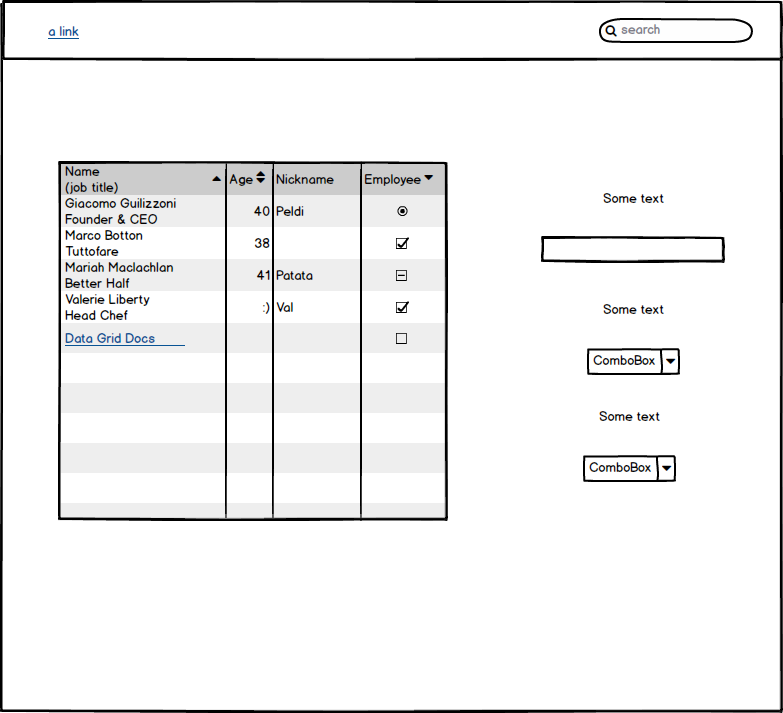input: (535, 232, 731, 267)
label: (596, 298, 677, 320), (592, 404, 664, 426), (598, 189, 671, 209)
navlink: (43, 21, 85, 45)
search: (594, 14, 756, 49)
select_box: (582, 342, 689, 382), (573, 451, 687, 487)
table: (51, 158, 448, 530)
